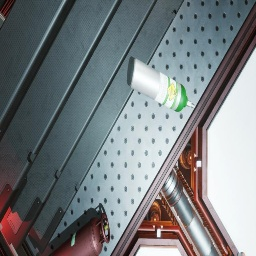0: (130, 58, 195, 112)
NitrogenTank ,: (48, 212, 110, 256)
